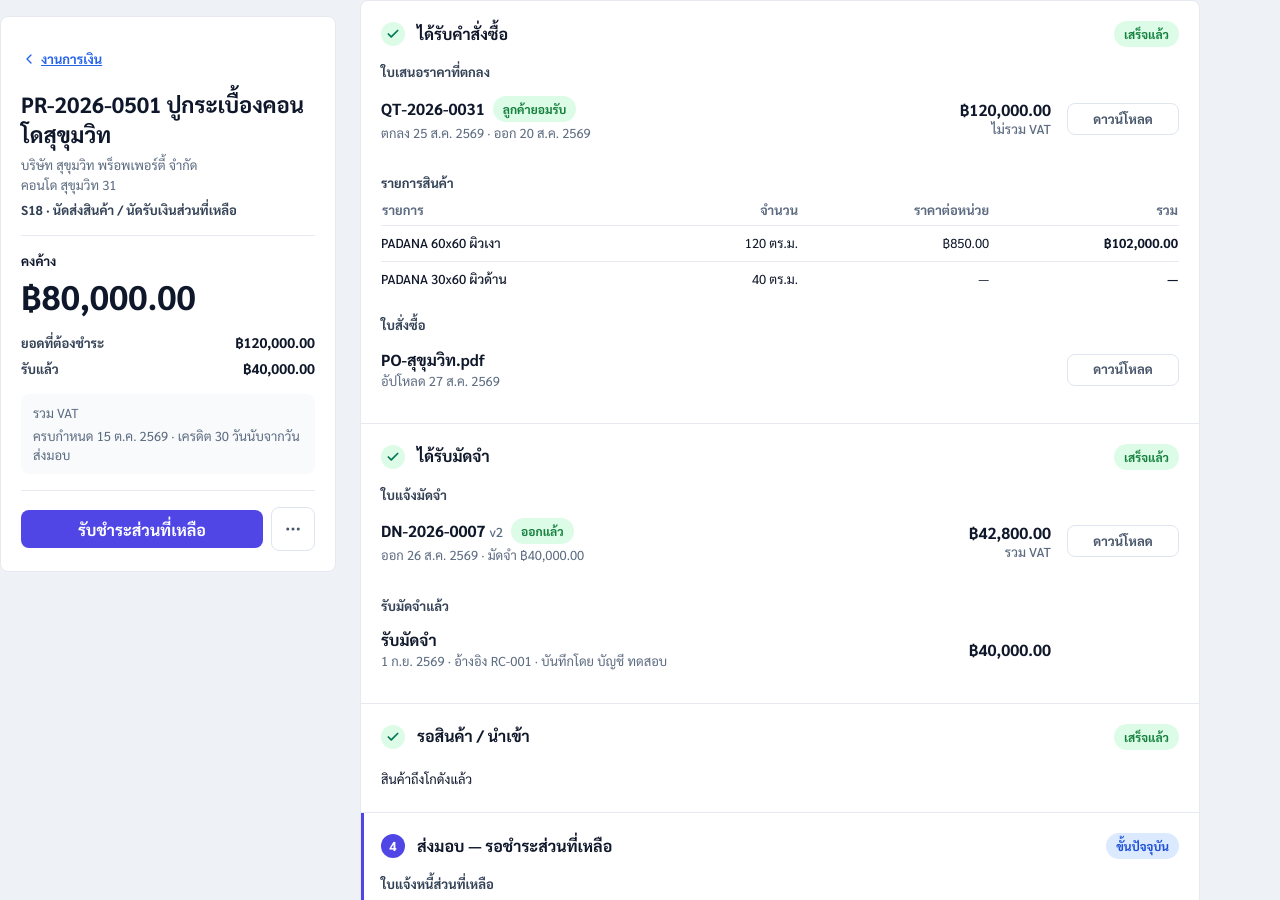
Test: FinanceDealPage › primary action and overflow › the primary button is the highest-priority available action; the rest sit in the overflow menu
The width and height of the screenshot is (1280, 900).
Check: the button "รับชำระส่วนที่เหลือ" is shown, box [21,510,263,548]
Check: the button "บันทึกรับชำระ" is not shown
Click the button named "การดำเนินการเพิ่มเติม" at (293, 529), box [271,507,315,551]
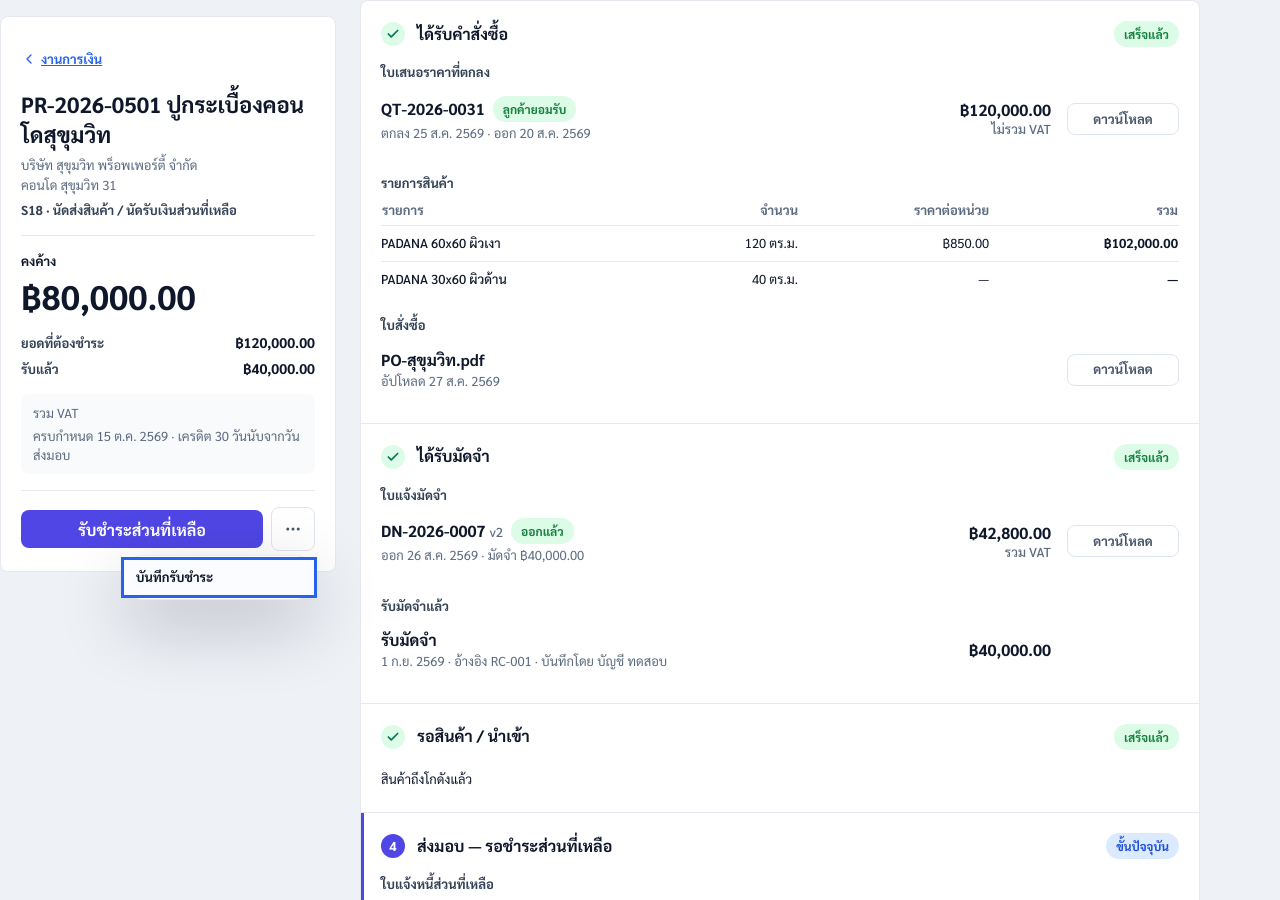
Check: the menu item "บันทึกรับชำระ" is shown, box [124,560,314,595]
